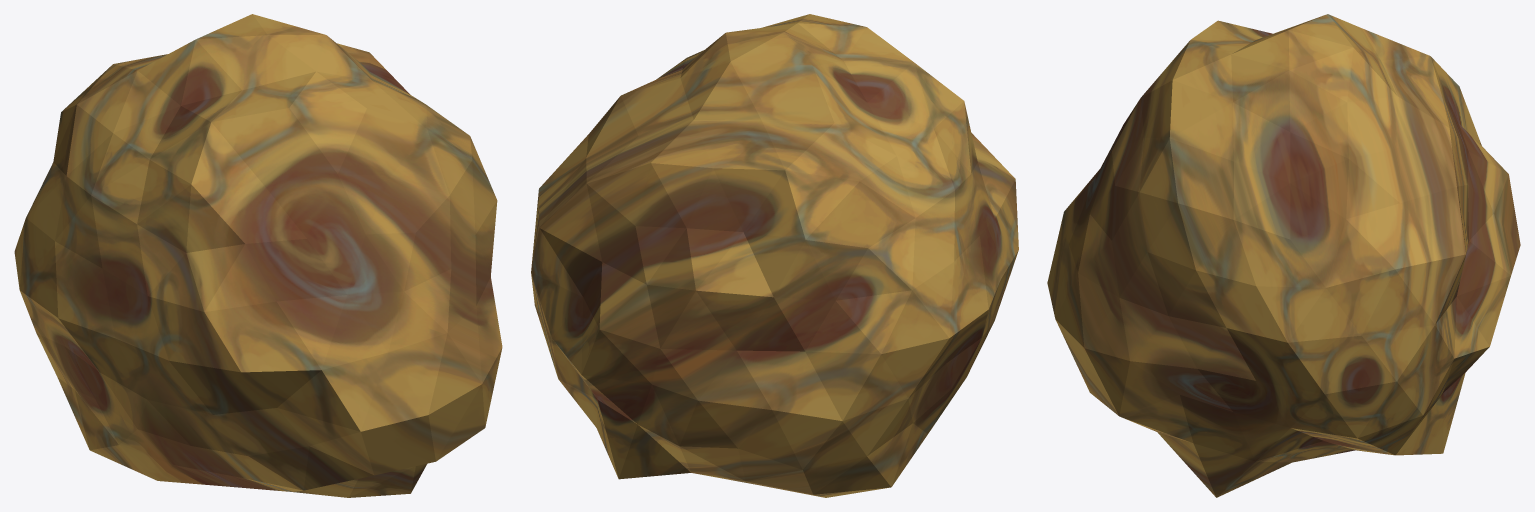
The model's file is asteroid05.obj.
The picture shows the model from 3 angles, left to right: view 1: azimuth 30°, elevation 25°; view 2: azimuth 150°, elevation 25°; view 3: azimuth 270°, elevation 25°; orthographic projection. The views are drawn at different scales.
Parts seen in each view (by area): view 1: Icosphere; view 2: Icosphere; view 3: Icosphere.
Boxes of the visible parts, bbox=[...] form: Icosphere: bbox=[14, 14, 502, 497]; Icosphere: bbox=[531, 14, 1018, 497]; Icosphere: bbox=[1047, 14, 1520, 497].
Bounding box in the file's own units: 2.22 × 2.26 × 2.3.
